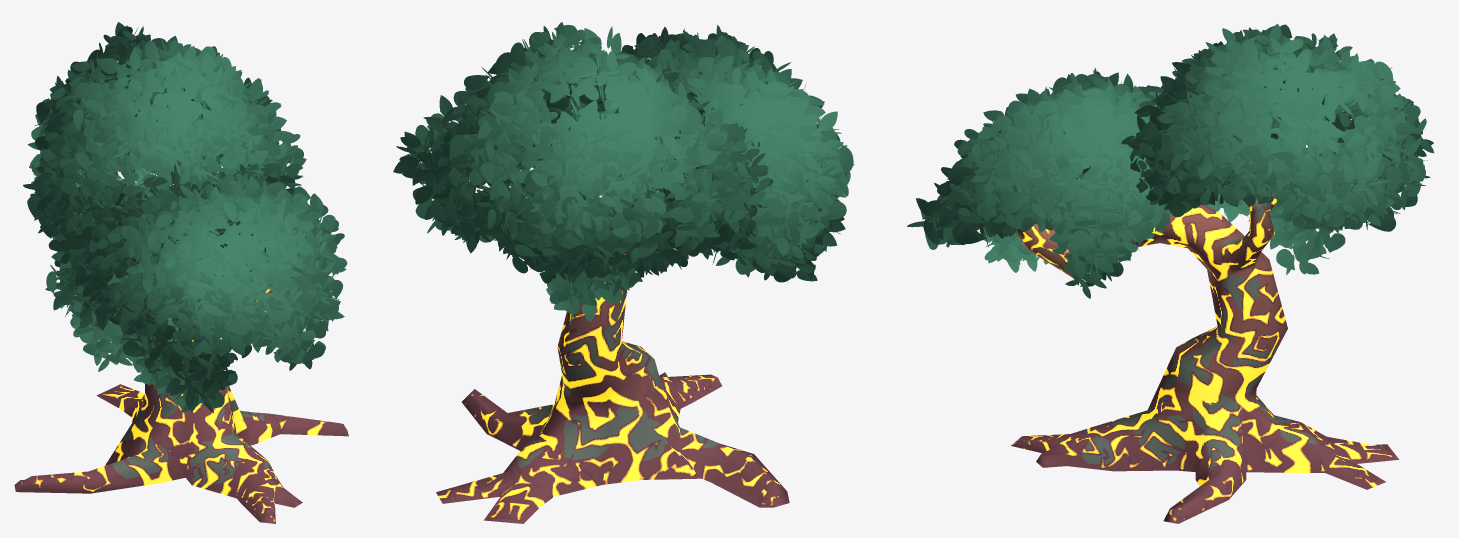
The model's file is tree_2_LOD_0.fbx.
3 renders of one model, left to right at view 1: azimuth 30°, elevation 25°; view 2: azimuth 150°, elevation 25°; view 3: azimuth 270°, elevation 25°, orthographic. The views are drawn at different scales.
Visible parts, largest first — view 1: tree_2_leaves, tree_2; view 2: tree_2_leaves, tree_2; view 3: tree_2_leaves, tree_2.
Boxes of the visible parts, x1,y1,x2,y2 form: tree_2_leaves: (23, 22, 347, 413); tree_2: (14, 182, 348, 523); tree_2_leaves: (393, 22, 854, 326); tree_2: (436, 105, 789, 523); tree_2_leaves: (907, 23, 1434, 298); tree_2: (1011, 193, 1398, 523).
Size of the model in its own units: 1179 by 1427 by 1677.
